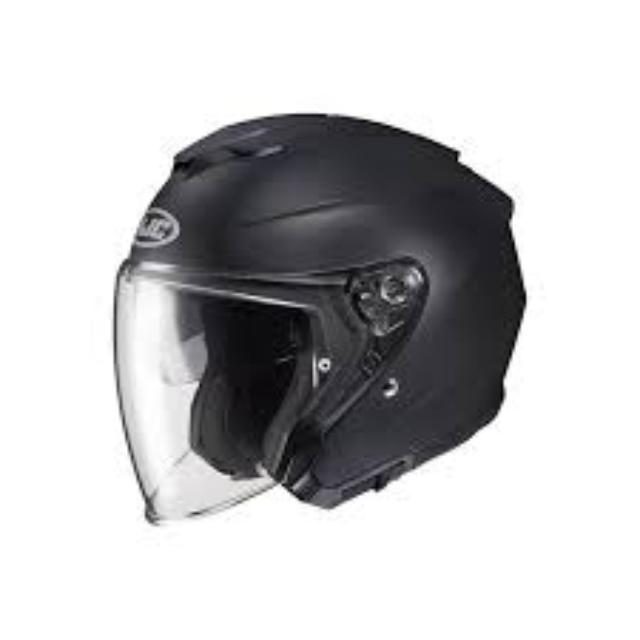motorcycle-helmets: (117, 114, 523, 521)
